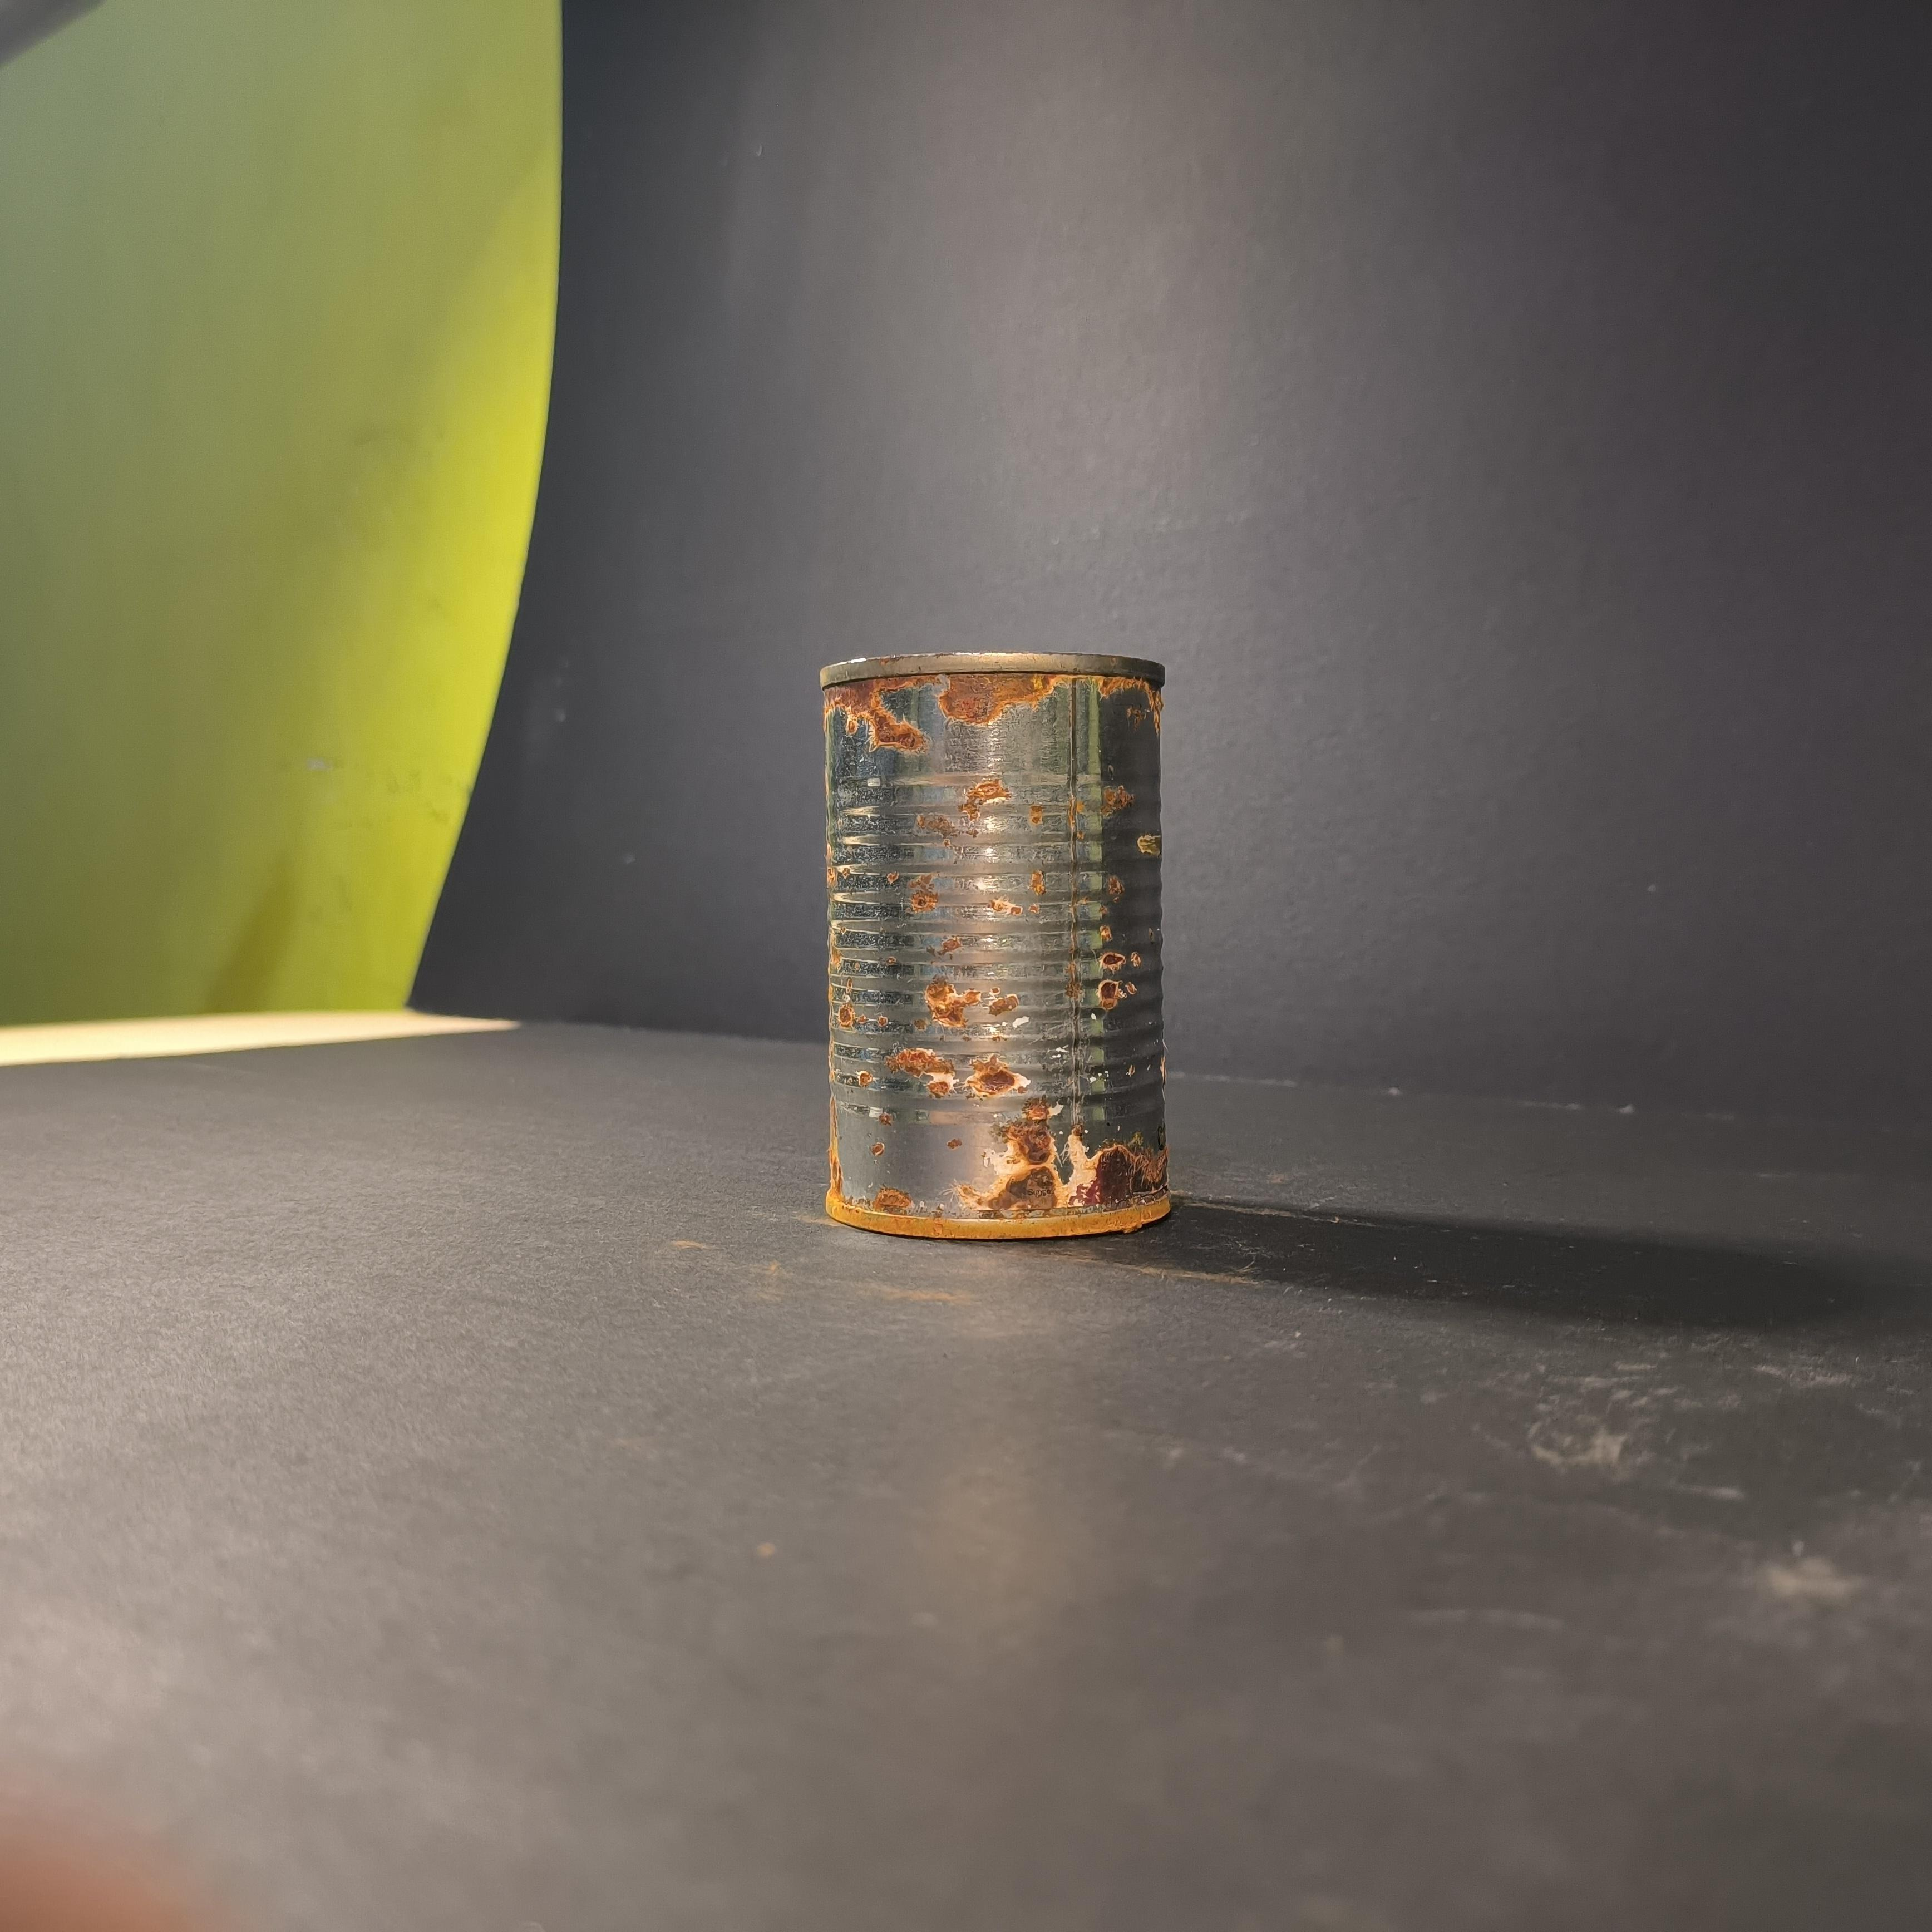Rusted: (798, 632, 1194, 1249)
